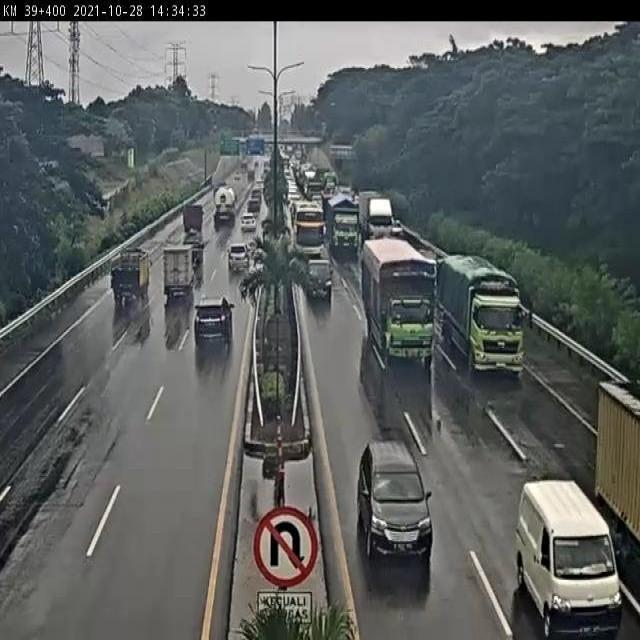big bus: (292, 203, 328, 268)
big truck: (443, 253, 533, 375), (362, 239, 441, 369), (325, 190, 361, 253), (359, 189, 397, 243)
car: (516, 484, 618, 640), (355, 441, 435, 567), (194, 296, 235, 351), (301, 256, 337, 305), (225, 241, 253, 276)
small truck: (112, 252, 155, 307), (161, 245, 200, 300), (180, 199, 206, 232)
